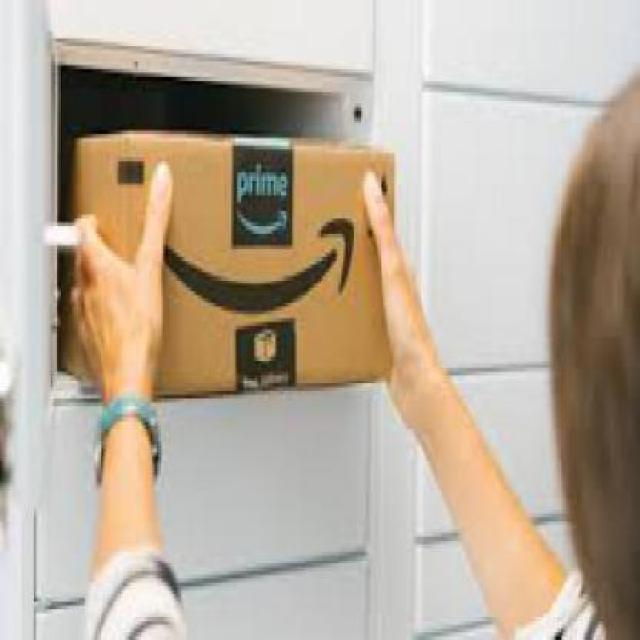cardboxes: (66, 125, 402, 408)
